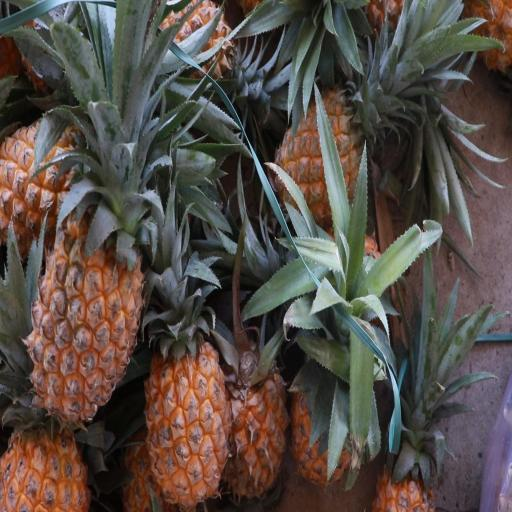Pineapple - v8 v1: (25, 189, 147, 432), (0, 108, 139, 258), (272, 88, 380, 242), (143, 337, 233, 506), (0, 366, 97, 512), (230, 331, 296, 506), (291, 338, 365, 494)
